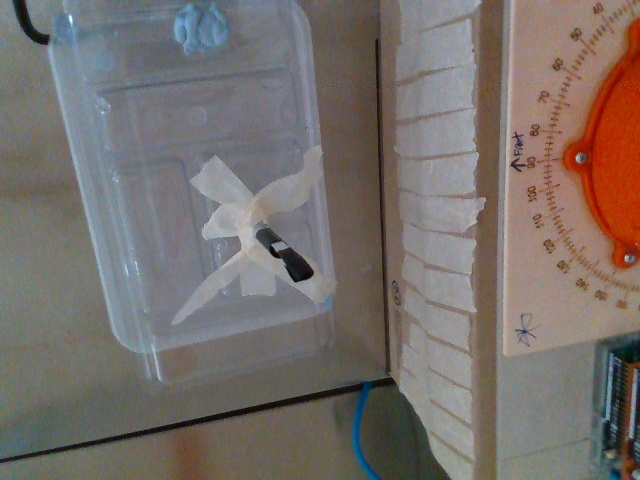test_strip: (268, 238, 313, 281)
